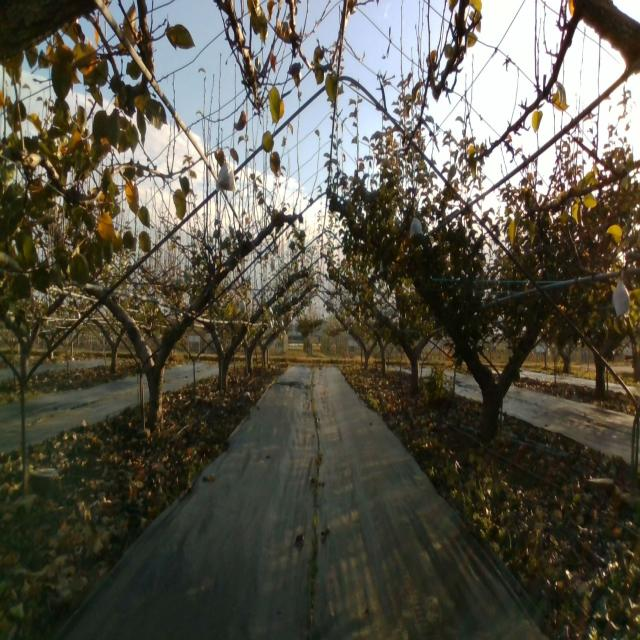pearbags: (216, 156, 238, 191), (613, 281, 631, 317), (409, 215, 423, 240)
